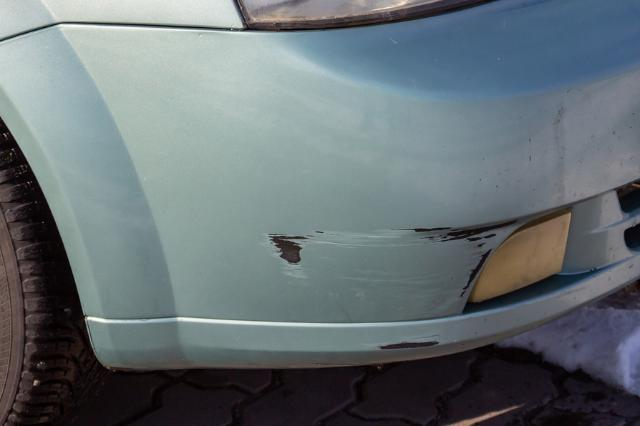Bumper: (245, 194, 562, 361)
